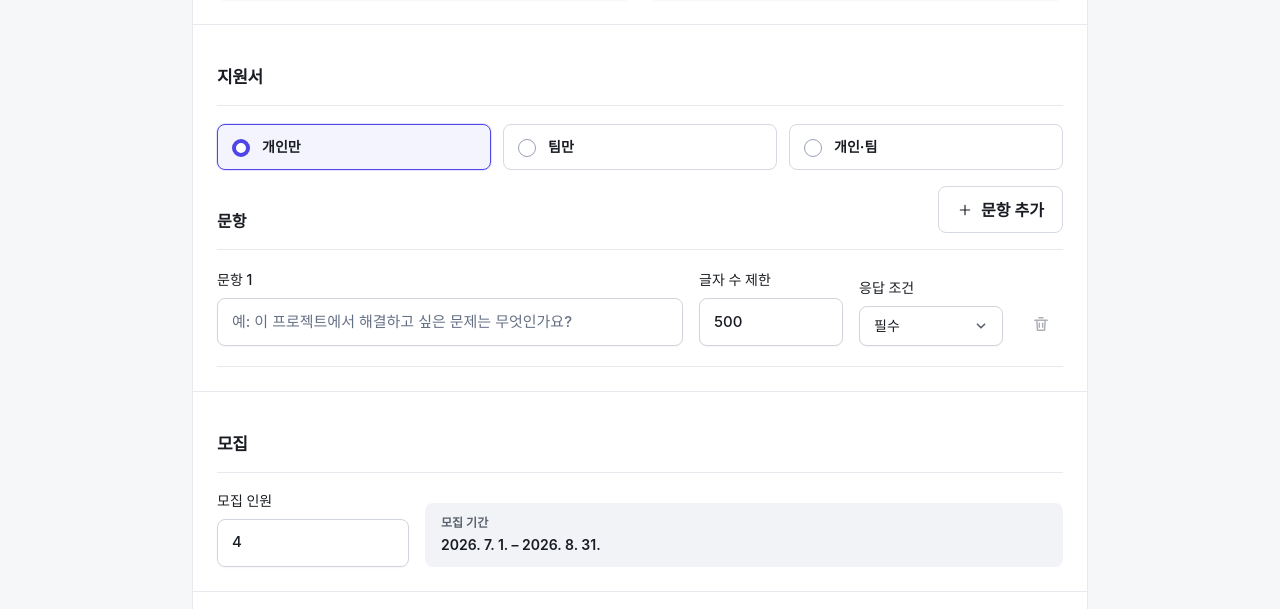
Test case: TopicForm › 지원서 문항을 작성하고 문항을 추가할 때 기존 입력 문항 내용이 보존된다
(page scrolled)
Type "수정된 테스트 질문" into the field with placeholder "예: 이 프로젝트에서 해결하고 싶은 문제는 무엇인가요?" at (450, 322), box [217, 298, 683, 346]
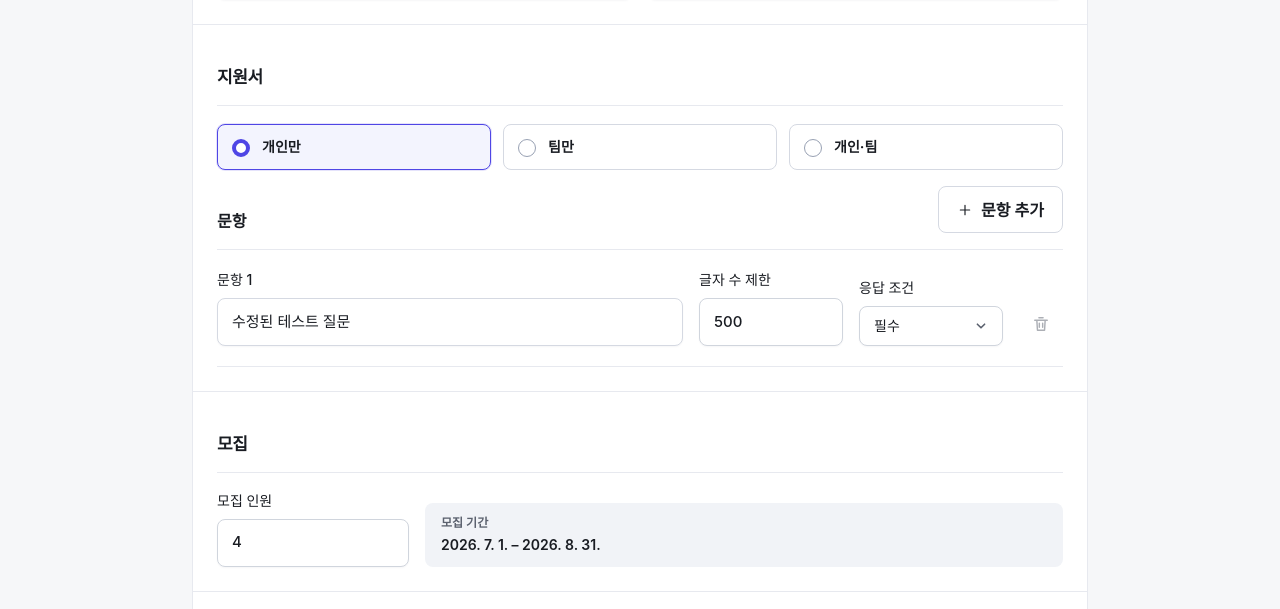
Click the button "문항 추가" at (1001, 210), box [938, 186, 1063, 233]
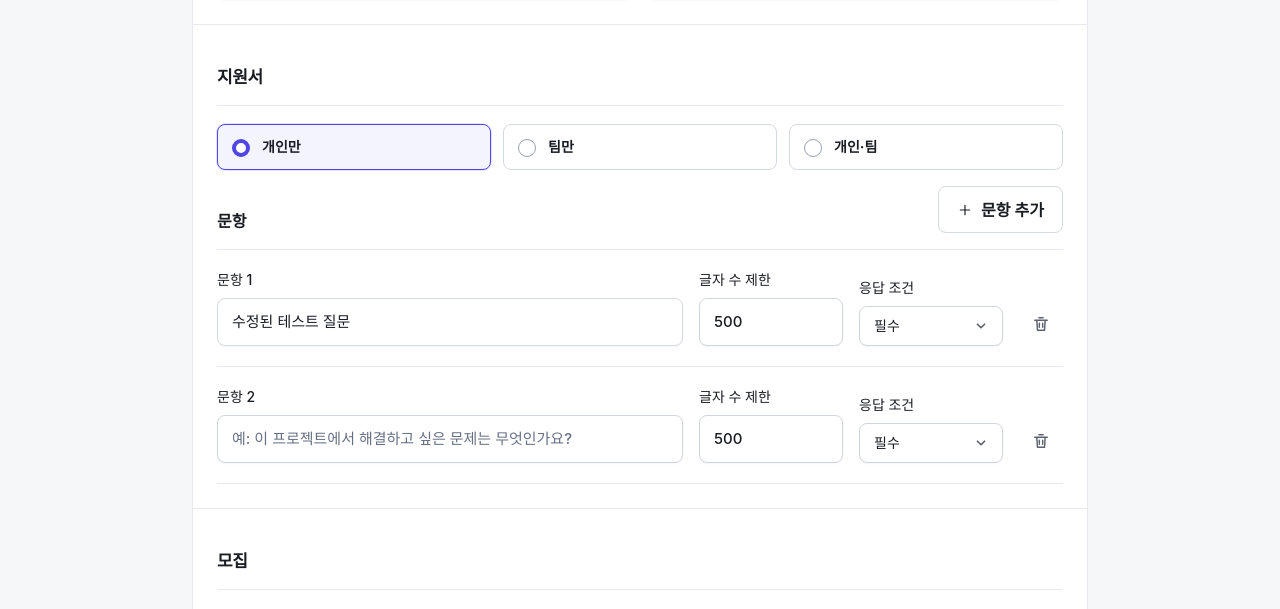
Result: the number of fields with placeholder "예: 이 프로젝트에서 해결하고 싶은 문제는 무엇인가요?" is 2 at [217, 298, 683, 346]; [217, 415, 683, 463]
